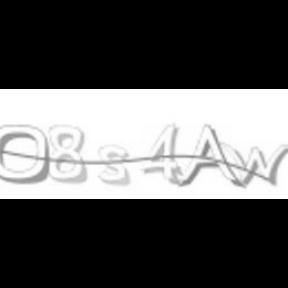4: (140, 120, 184, 186)
8: (46, 123, 88, 185)
A: (178, 123, 243, 189)
O: (0, 122, 50, 186)
s: (96, 144, 132, 188)
w: (220, 140, 288, 188)
